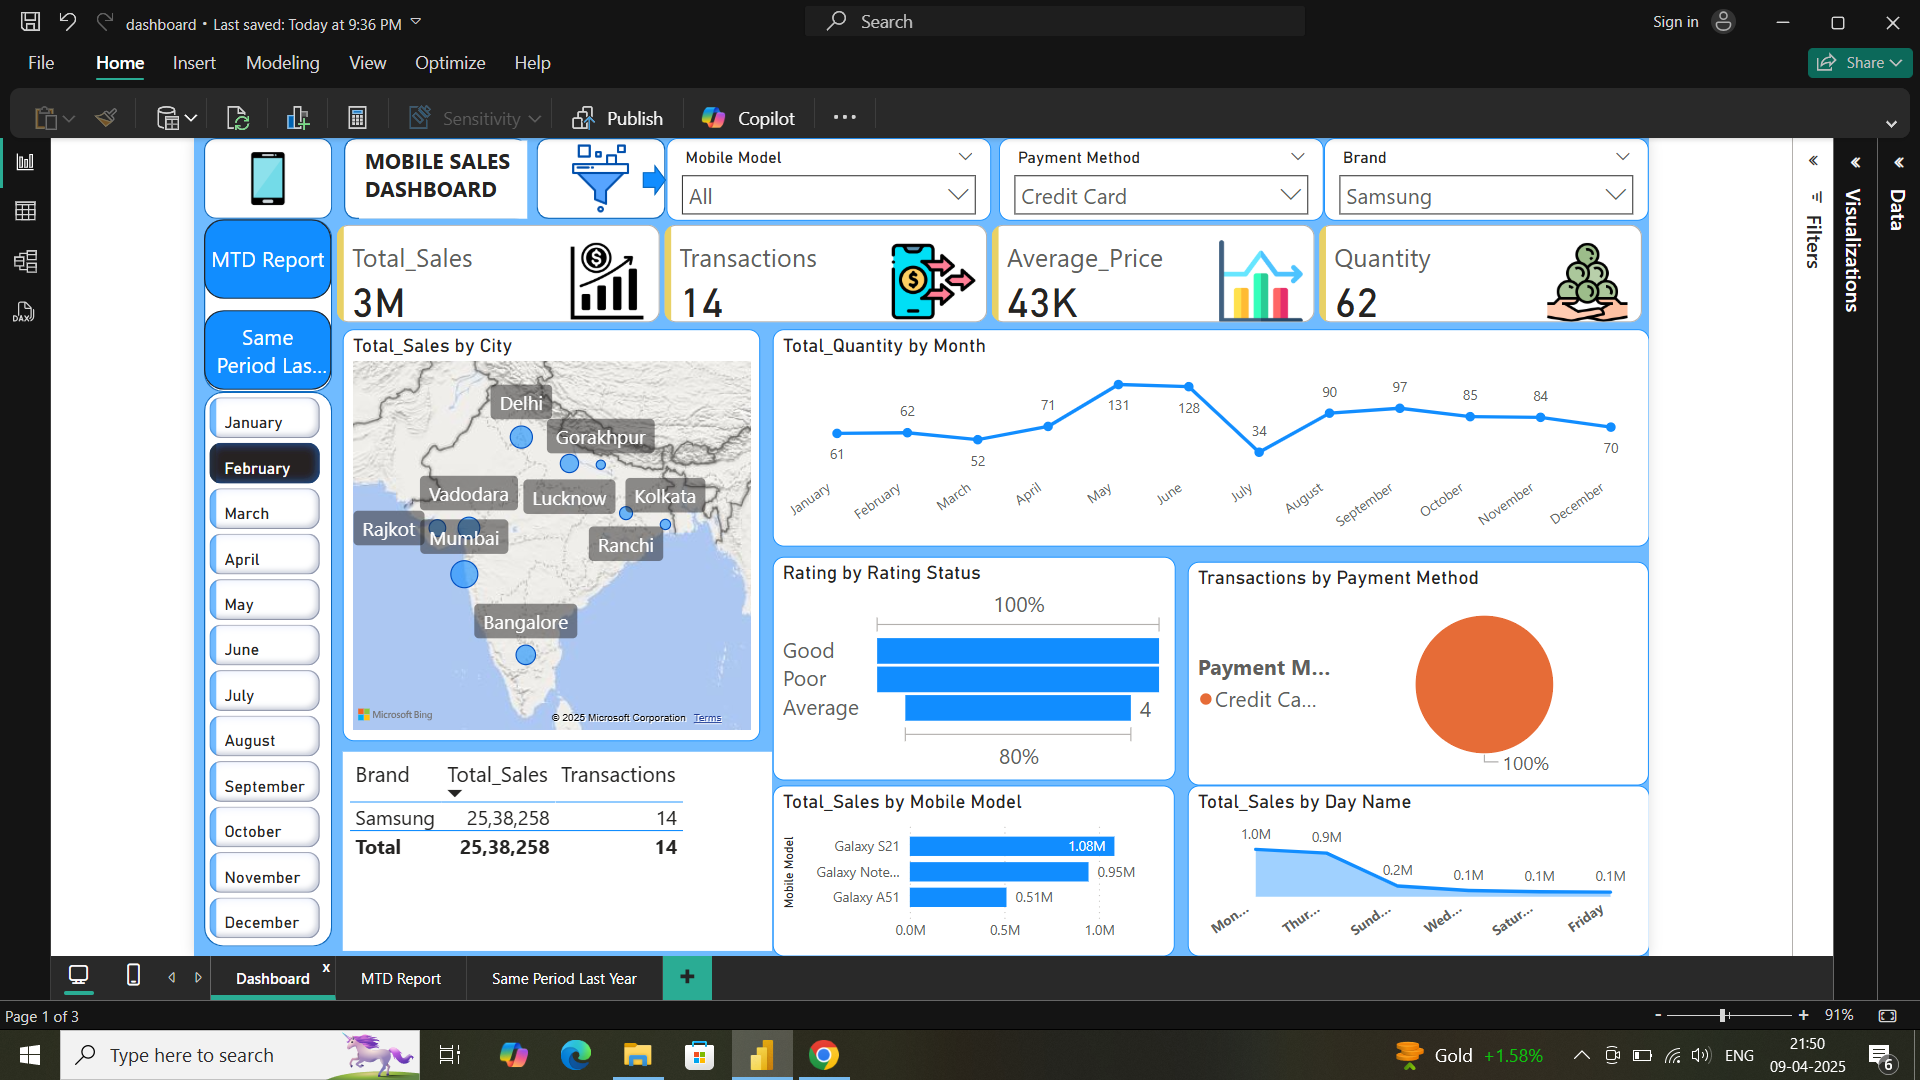

The dashboard page shown, as its layout file describes it:
{"tool":"powerbi","page":{"name":"Dashboard","canvas":[1280,720],"ordinal":0},"visuals":[{"type":"shape","box":[8.6,0,112.9,71.2],"z":0},{"type":"image","box":[19.6,0,90.8,71.2],"z":1000},{"type":"shape","box":[8.6,71.2,112.9,152.1],"z":2000},{"type":"shape","box":[8.6,223.3,112.9,488.3],"z":3000},{"type":"advancedSlicerVisual","fields":{"Values":["Custom_Calendar.Date.Variation.Date Hierarchy.Month"]},"box":[8.6,223.3,108,496.9],"z":4000},{"type":"cardVisual","fields":{"Data":["Sales_Data.Total_Sales","Sales_Data.Transactions","Sales_Data.Average_Price","Sales_Data.Quantity"]},"box":[121,71.4,1158.4,96.8],"z":5000},{"type":"slicer","fields":{"Values":["Sales_Data.Mobile Model"]},"box":[415.2,0,285.7,72.6],"z":6000},{"type":"slicer","fields":{"Values":["Sales_Data.Brand"]},"box":[993.8,0,285.7,72.6],"z":7000},{"type":"slicer","fields":{"Values":["Sales_Data.Payment Method"]},"box":[708.1,0,285.7,72.6],"z":8000},{"type":"shape","box":[301.4,0,113.8,71.4],"z":9000},{"type":"image","box":[292.9,0,130.7,71.4],"z":10000},{"type":"shape","box":[394.6,23,20.6,27.8],"z":11000},{"type":"shape","box":[131.9,0,161,71.4],"z":12000},{"type":"textbox","box":[145.3,2.4,147.7,69],"z":13000},{"type":"lineChart","title":"Total_Quantity by Month","fields":{"Category":["Custom_Calendar.Date.Variation.Date Hierarchy.Month"],"Y":["Sales_Data.total"]},"box":[508.8,168.8,771.2,191.2],"z":14000},{"type":"map","fields":{"Category":["Sales_Data.City"],"Size":["Sales_Data.Total_Sales"]},"box":[131.2,168.8,367.5,362.5],"z":15000},{"type":"funnel","title":"Rating by Rating Status","fields":{"Y":["CountNonNull(Sales_Data.Customer Ratings)"],"Category":["Sales_Data.Rating_Stautus"]},"box":[508.6,368.6,354.3,197.1],"z":16000},{"type":"pieChart","fields":{"Y":["Sales_Data.Transactions"],"Category":["Sales_Data.Payment Method"]},"box":[874.3,372.9,405.7,197.1],"z":17000},{"type":"clusteredBarChart","fields":{"Y":["Sales_Data.Total_Sales"],"Category":["Sales_Data.Mobile Model"]},"box":[508.8,570,353.8,150],"z":18000},{"type":"areaChart","fields":{"Y":["Sales_Data.Total_Sales"],"Category":["Custom_Calendar.Day Name"]},"box":[873.8,570,406.2,150],"z":19000},{"type":"tableEx","fields":{"Values":["Sales_Data.Brand","Sales_Data.Total_Sales","Sales_Data.Transactions"]},"box":[131.2,540,377.5,175],"z":20000},{"type":"pageNavigator","box":[8.8,71.2,112.5,151.2],"z":21000}]}

Visuals, with their boxes on the page's 1280x720 design canvas (x1, y1, x2, y2). These are canvas units, not pixel positions in the 1920x1080 screenshot, which may show the page scaled, cropped or inside an application window:
shape: (9,0,122,71)
image: (20,0,110,71)
shape: (9,71,122,223)
shape: (9,223,122,712)
advancedSlicerVisual - Custom_Calendar.Date.Variation.Date Hierarchy.Month: (9,223,117,720)
cardVisual - Sales_Data.Total_Sales x Sales_Data.Transactions: (121,71,1279,168)
slicer - Sales_Data.Mobile Model: (415,0,701,73)
slicer - Sales_Data.Brand: (994,0,1280,73)
slicer - Sales_Data.Payment Method: (708,0,994,73)
shape: (301,0,415,71)
image: (293,0,424,71)
shape: (395,23,415,51)
shape: (132,0,293,71)
textbox: (145,2,293,71)
"Total_Quantity by Month" lineChart: (509,169,1280,360)
map - Sales_Data.City x Sales_Data.Total_Sales: (131,169,499,531)
"Rating by Rating Status" funnel: (509,369,863,566)
pieChart - Sales_Data.Transactions x Sales_Data.Payment Method: (874,373,1280,570)
clusteredBarChart - Sales_Data.Total_Sales x Sales_Data.Mobile Model: (509,570,863,720)
areaChart - Sales_Data.Total_Sales x Custom_Calendar.Day Name: (874,570,1280,720)
tableEx - Sales_Data.Brand x Sales_Data.Total_Sales: (131,540,509,715)
pageNavigator: (9,71,121,222)
